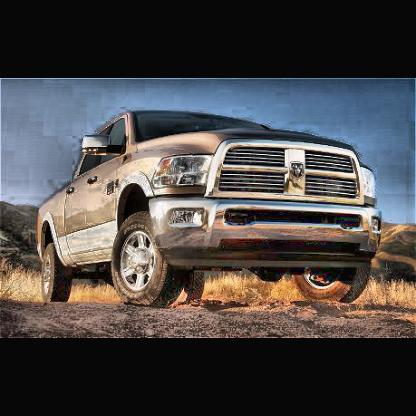Dodge Ram Pickup 3500 Crew Cab 2010: (37, 109, 385, 309)
